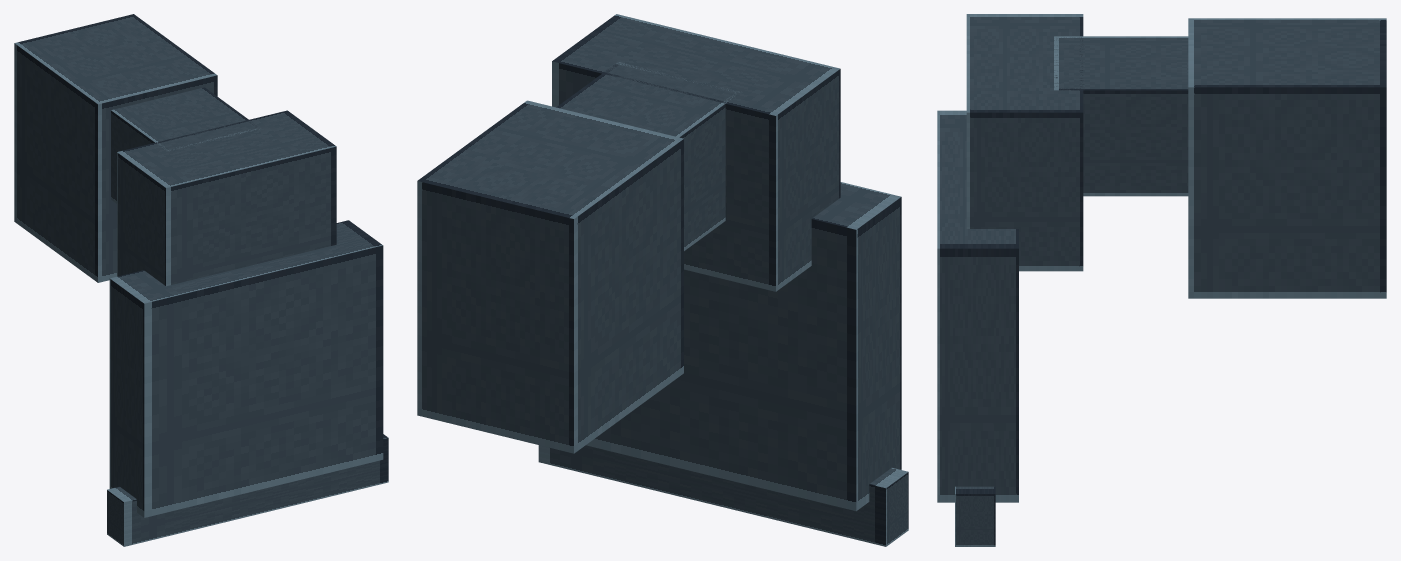
File: workpiece_forged_hoe_quenched.obj
3 views of the same model, side by side, from view 1: azimuth 30°, elevation 25°; view 2: azimuth 150°, elevation 25°; view 3: azimuth 270°, elevation 25° (orthographic). The views are drawn at different scales.
Visible parts, largest first — view 1: geometry; view 2: geometry; view 3: geometry.
Boxes of the visible parts, x1=… form: geometry: x1=14, y1=14, x2=388, y2=546; geometry: x1=417, y1=14, x2=908, y2=546; geometry: x1=937, y1=14, x2=1386, y2=546.
Size of the model in its own units: 0.3875 by 0.4938 by 0.4812.
